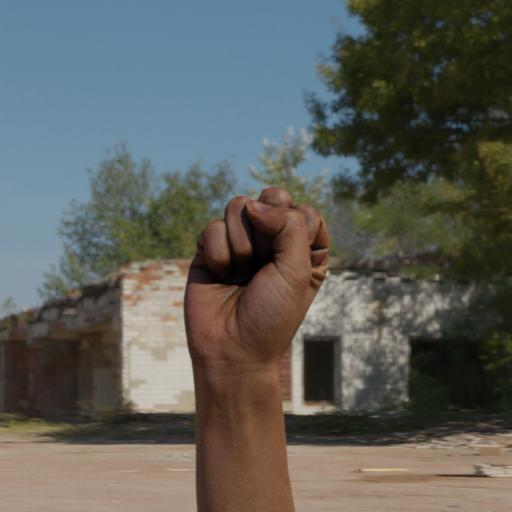S: (172, 179, 344, 435)
